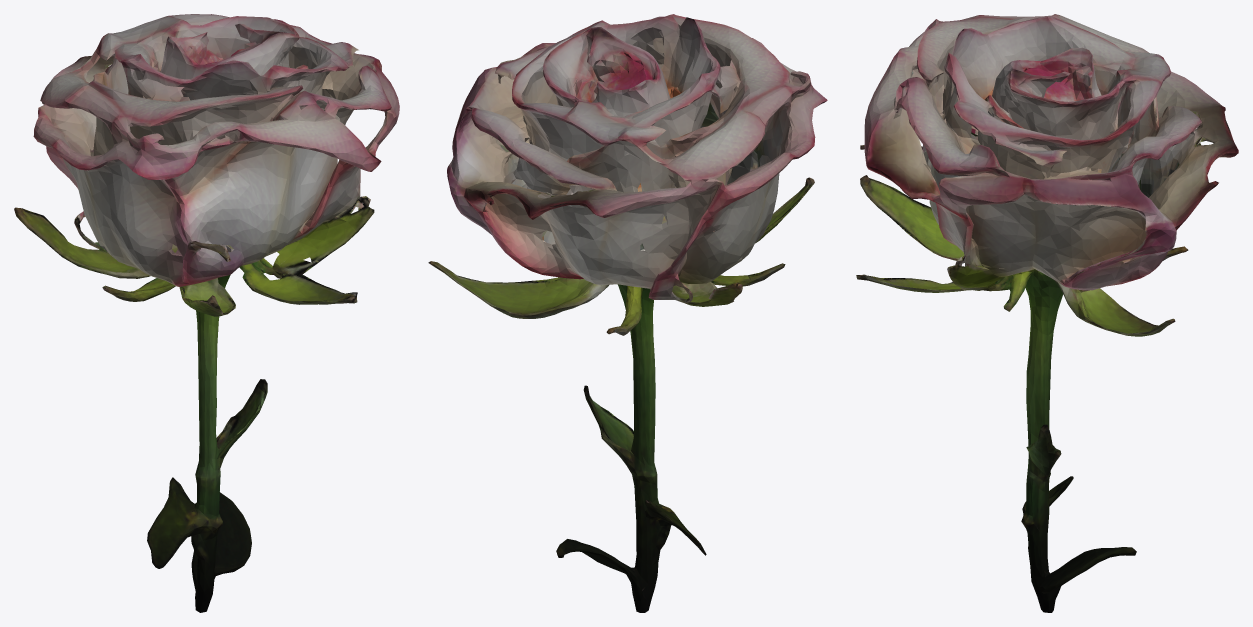
The picture shows the model from 3 angles, left to right: view 1: azimuth 30°, elevation 25°; view 2: azimuth 150°, elevation 25°; view 3: azimuth 270°, elevation 25°; orthographic projection. The views are drawn at different scales.
Parts seen in each view (by area): view 1: world; view 2: world; view 3: world.
Part boxes in pixels (box(x1,y1,x2,y2)): world: box(14, 14, 399, 612); world: box(428, 14, 827, 612); world: box(856, 14, 1238, 612).
Size of the model in its own units: 0.5708 by 0.9722 by 0.5835.
Materials: 1 (1 with a texture image).
